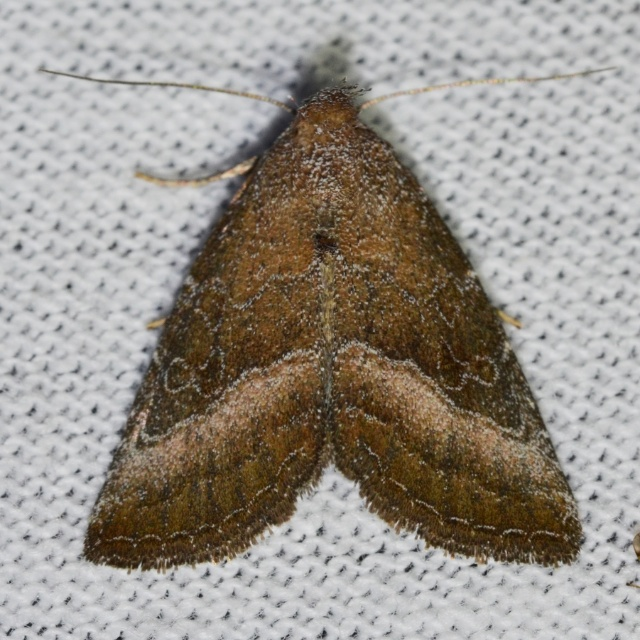Moths and butterflies: (37, 68, 611, 574)
